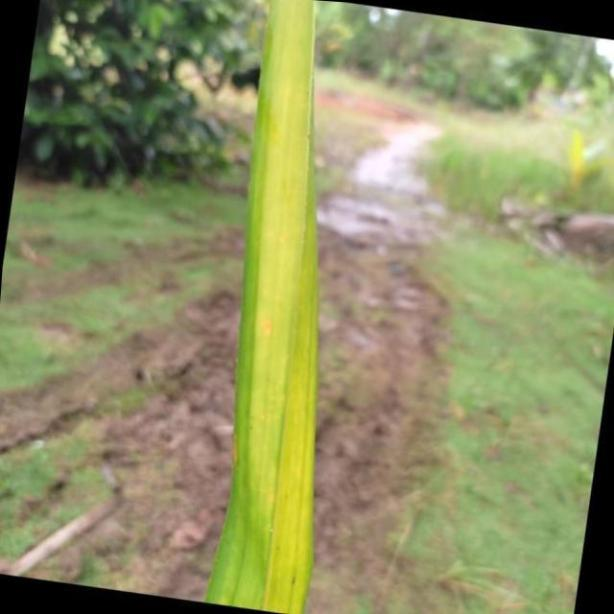nitrogen: (211, 0, 315, 614)
